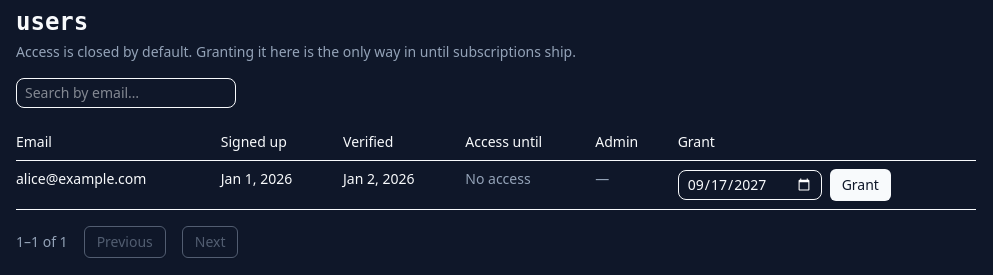
Test: AdminUsers › PUTs the picked date as an end-of-day UTC instant and re-renders the granted row
Step 1. Click the button with aria-label "Grant access for alice@example.com" → [860, 185], box [830,169,891,201]
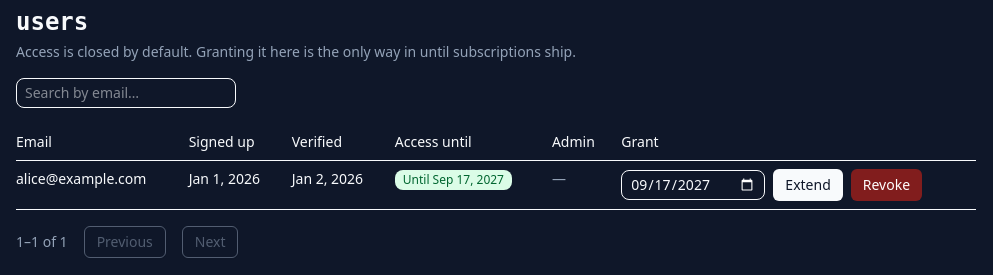
Result: the text "Until Sep 17, 2027" is shown at [395,170,512,190]
Result: the button with aria-label "Extend access for alice@example.com" is shown at [773,169,843,201]
